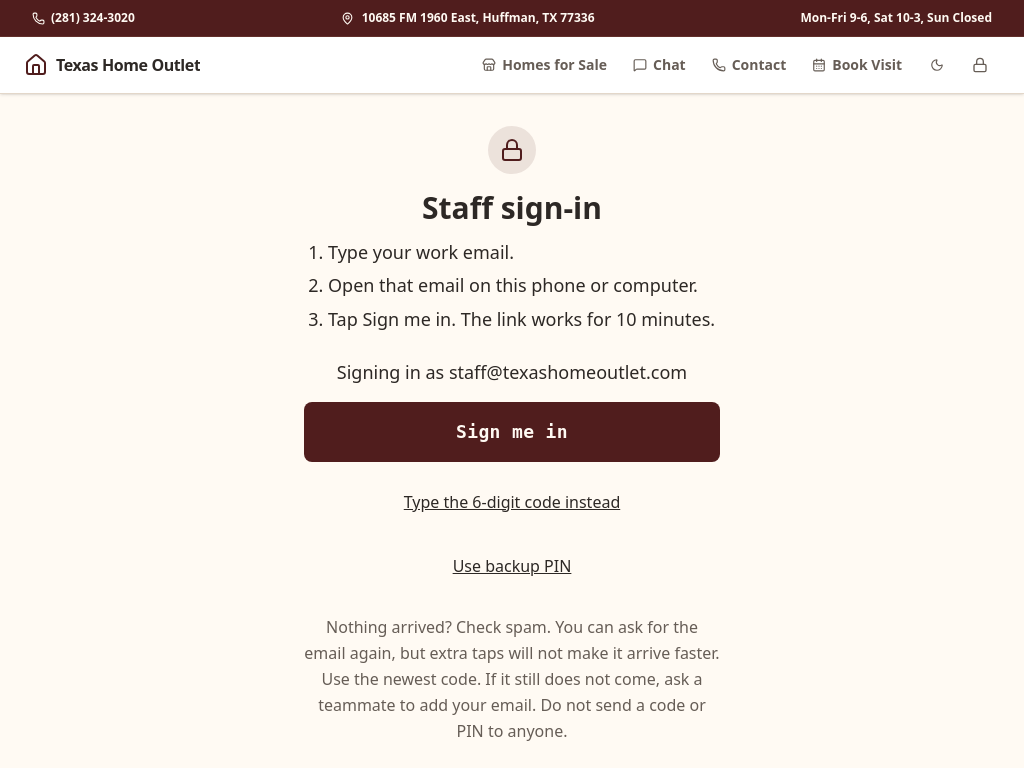
Test: Admin email one-time-code login › offers one button to send a new link when the email link has expired
What coordinates should you click on to do the following:
click the button "Sign me in"
I would click on:
 (512, 432)
Its box is x1=304 y1=402 x2=720 y2=462.
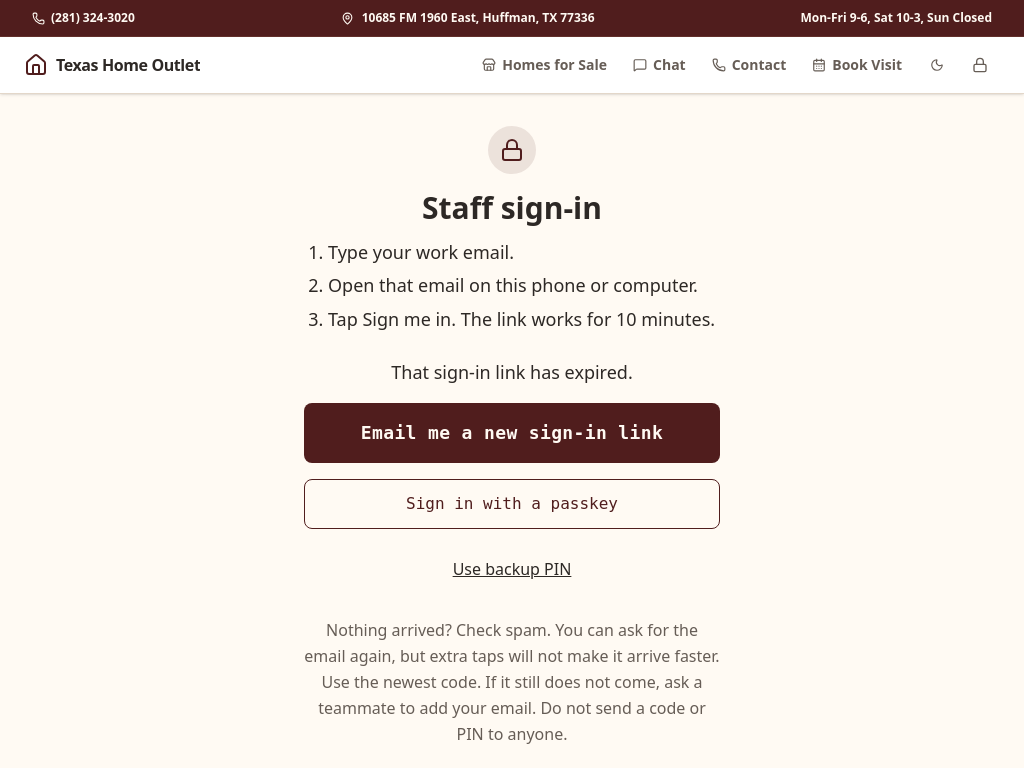
Result: the message shows "That sign-in link has expired" at x1=391 y1=360 x2=633 y2=384
What coordinates should you click on to do the following:
click the button "Email me a new sign-in link"
I would click on:
 (512, 433)
Its box is x1=304 y1=403 x2=720 y2=463.
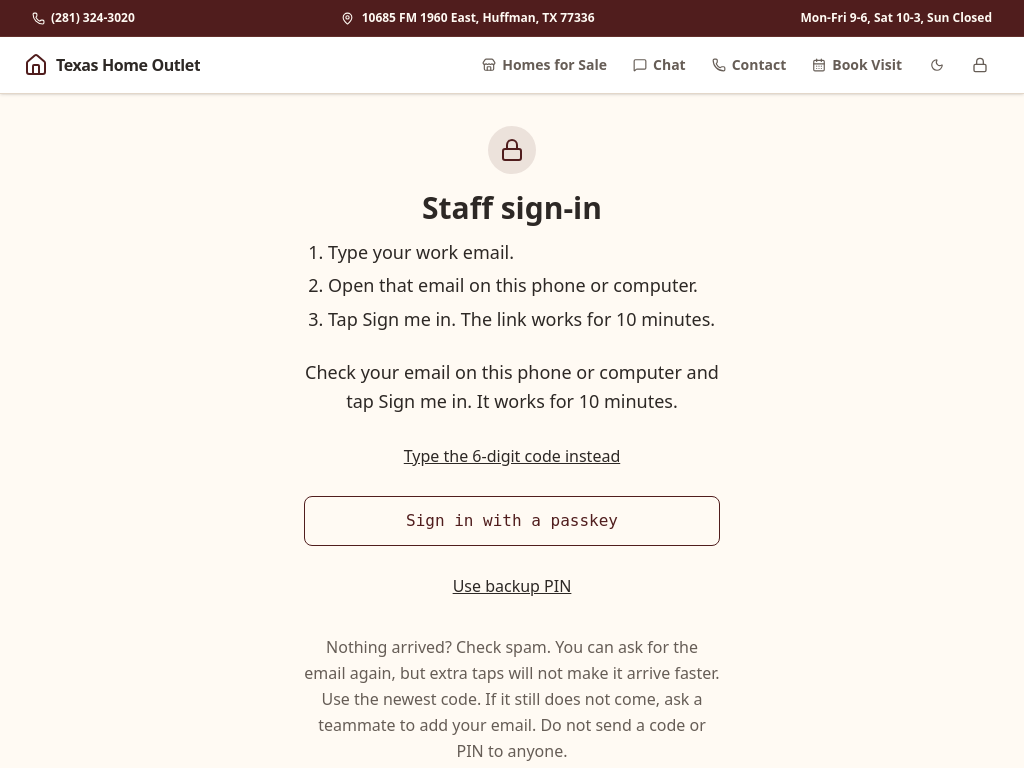
Result: the text "Check your email on this phone or computer and tap Sign me in" is shown at x1=305 y1=360 x2=719 y2=413
